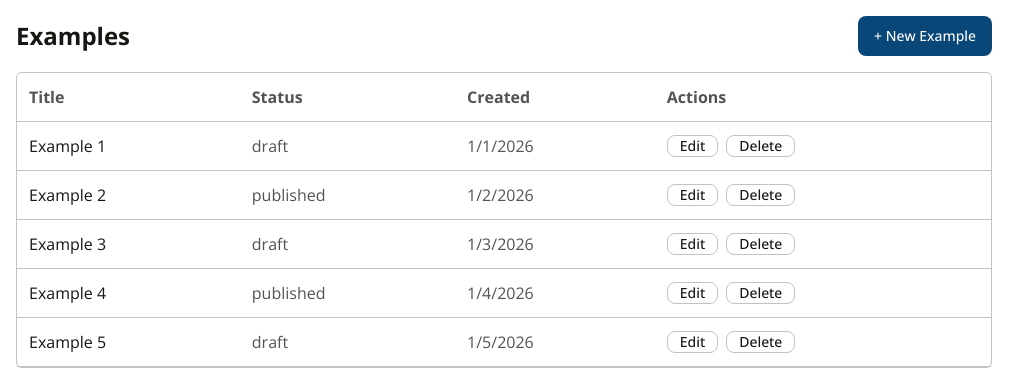
Test case: ExamplesPage › 삭제 확인 시 X 클릭 후 목록에서 제거된다
Check: the text "Example 5" is shown, box [17,318,240,366]
Step 1. Click the button "Delete" in the row of "Example 5" → click(761, 342), box [726,331,795,353]
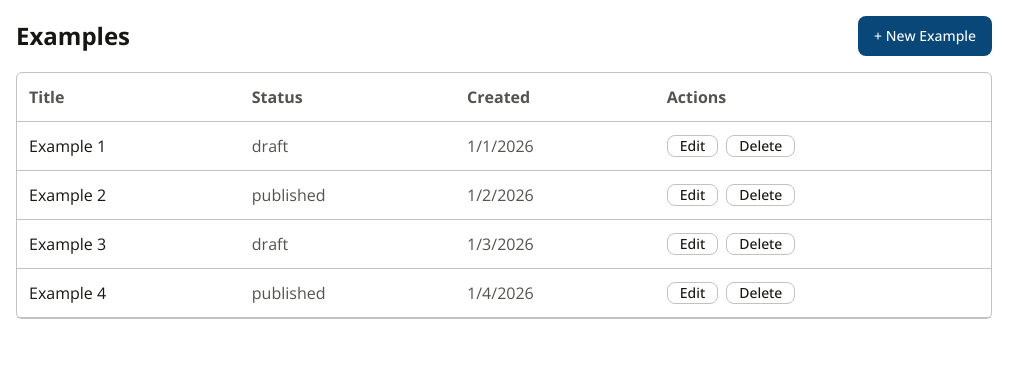
Check: the text "Example 5" is gone
